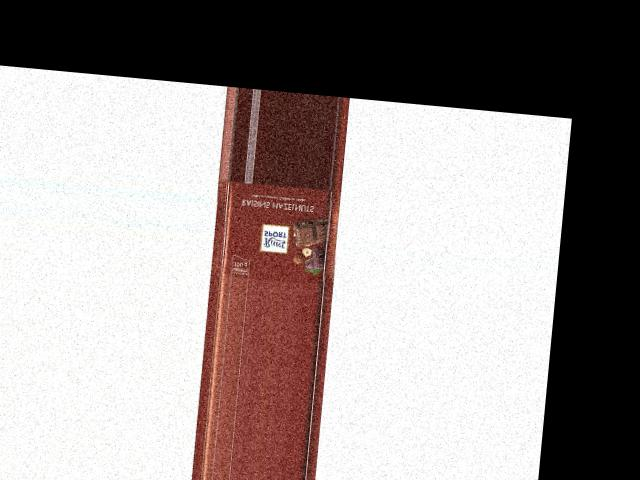chocolate: (209, 179, 344, 286)
